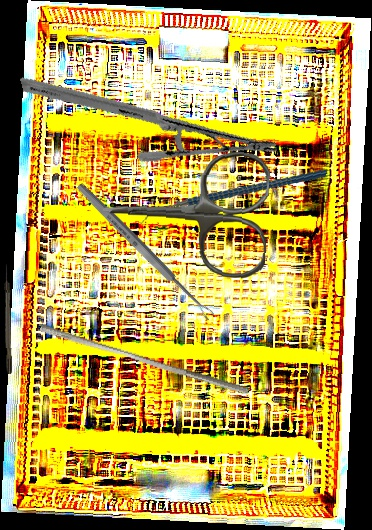Chopper: (139, 147, 328, 247)
Hook Surgical: (4, 263, 12, 375)
Iris Scissors: (99, 145, 271, 280)
Needle Holder: (19, 18, 279, 214)
Pusher: (37, 323, 252, 395)
Surgical Spoon: (74, 181, 216, 322)
